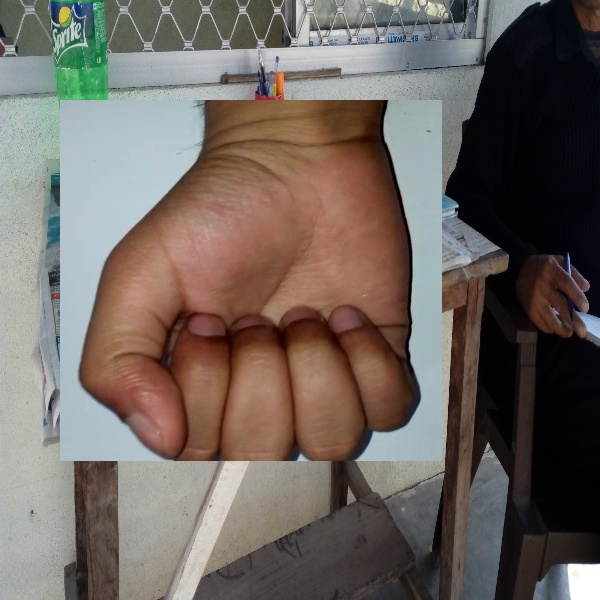A: (60, 100, 442, 461)
